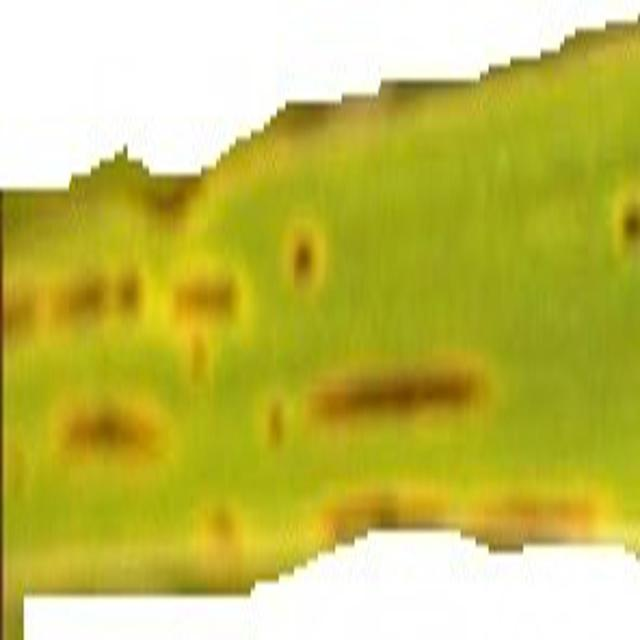Brown spot: (0, 250, 250, 338), (311, 359, 488, 434), (38, 403, 160, 479), (272, 220, 338, 309), (591, 180, 640, 253), (192, 511, 256, 566), (256, 398, 296, 453)
